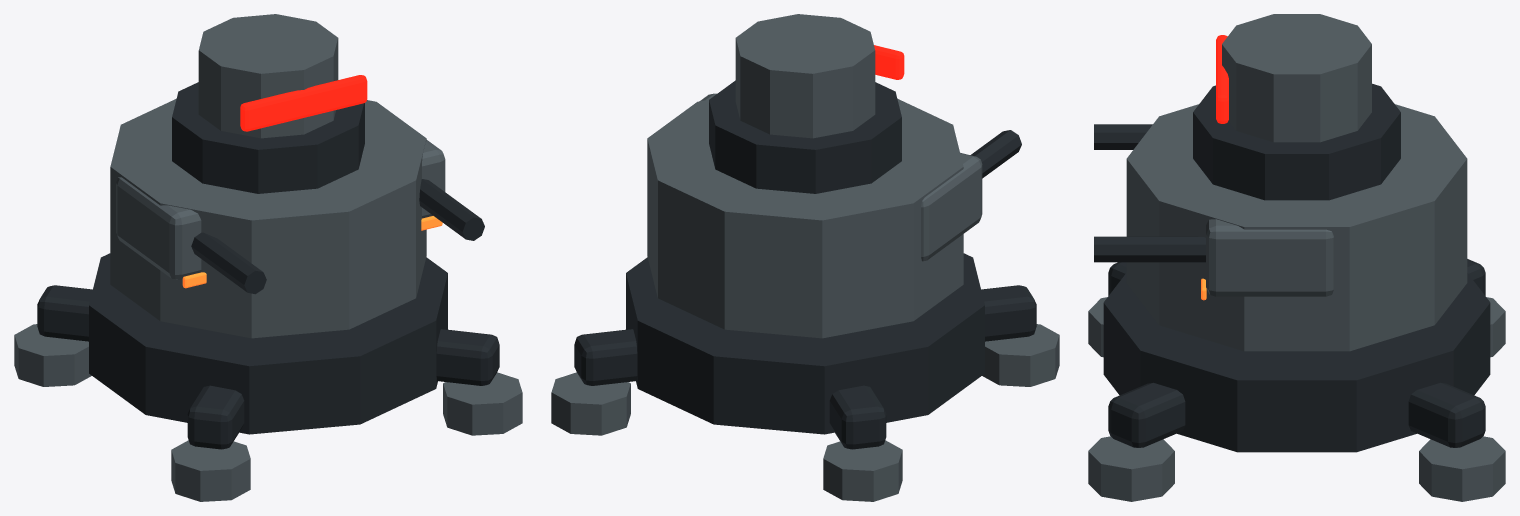
The model's file is ground-sentry-drone-v1-lod1.glb.
3 views of the same model, side by side, from view 1: azimuth 30°, elevation 25°; view 2: azimuth 150°, elevation 25°; view 3: azimuth 270°, elevation 25° (orthographic). The views are drawn at different scales.
Parts seen in each view (by area): view 1: ground_sentry_drone__lod1__Sentry weathered armor, ground_sentry_drone__lod1__Sentry dark mechanism, ground_sentry_drone__lod1__Sentry hostile optics; view 2: ground_sentry_drone__lod1__Sentry weathered armor, ground_sentry_drone__lod1__Sentry dark mechanism, ground_sentry_drone__lod1__Sentry hostile optics; view 3: ground_sentry_drone__lod1__Sentry weathered armor, ground_sentry_drone__lod1__Sentry dark mechanism, ground_sentry_drone__lod1__Sentry hostile optics.
Part boxes in pixels (box(x1,y1,x2,y2)): ground_sentry_drone__lod1__Sentry weathered armor: box(14, 14, 522, 501); ground_sentry_drone__lod1__Sentry dark mechanism: box(37, 82, 499, 449); ground_sentry_drone__lod1__Sentry hostile optics: box(240, 75, 367, 131); ground_sentry_drone__lod1__Sentry weathered armor: box(551, 14, 1059, 501); ground_sentry_drone__lod1__Sentry dark mechanism: box(574, 80, 1036, 449); ground_sentry_drone__lod1__Sentry hostile optics: box(874, 45, 904, 79); ground_sentry_drone__lod1__Sentry weathered armor: box(1088, 14, 1505, 501); ground_sentry_drone__lod1__Sentry dark mechanism: box(1094, 83, 1490, 452); ground_sentry_drone__lod1__Sentry hostile optics: box(1216, 35, 1228, 123).
Size of the model in its own units: 2.89 by 2.83 by 2.89.
